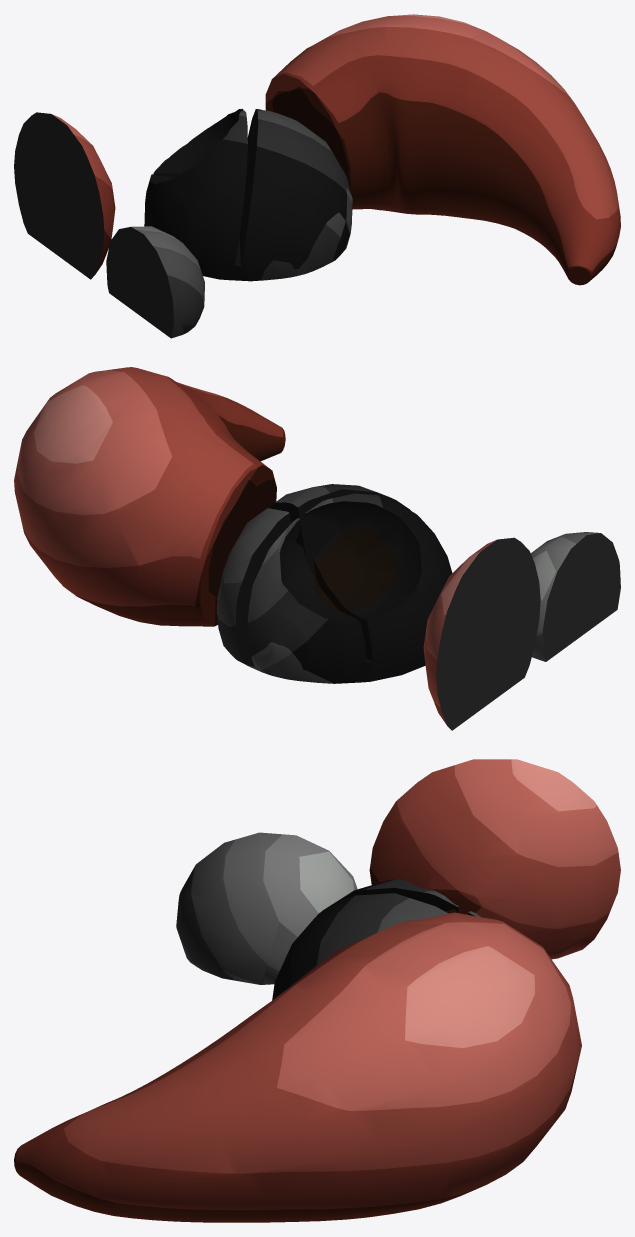
File: brick_crab_right_wreck.glb
3 views of the same model, one above another, from view 1: azimuth 30°, elevation 25°; view 2: azimuth 150°, elevation 25°; view 3: azimuth 270°, elevation 25° (orthographic). The views are drawn at different scales.
Parts seen in each view (by area): view 1: hook_r.001, grey_ball_r.001, red_ball_r.001, joint_r.001; view 2: hook_r.001, grey_ball_r.001, red_ball_r.001, joint_r.001; view 3: hook_r.001, red_ball_r.001, joint_r.001, grey_ball_r.001.
Boxes of the visible parts, left/top/right/bottom form: hook_r.001: left=265, top=14, right=620, bottom=285; grey_ball_r.001: left=144, top=108, right=352, bottom=281; red_ball_r.001: left=14, top=112, right=115, bottom=279; joint_r.001: left=106, top=226, right=204, bottom=338; hook_r.001: left=14, top=367, right=285, bottom=626; grey_ball_r.001: left=217, top=484, right=452, bottom=683; red_ball_r.001: left=423, top=537, right=540, bottom=730; joint_r.001: left=531, top=532, right=620, bottom=661; hook_r.001: left=14, top=912, right=581, bottom=1222; red_ball_r.001: left=369, top=759, right=620, bottom=959; joint_r.001: left=176, top=832, right=357, bottom=984; grey_ball_r.001: left=272, top=879, right=480, bottom=1000.
Bounding box in the file's own units: 19.71 × 7.19 × 16.63.
